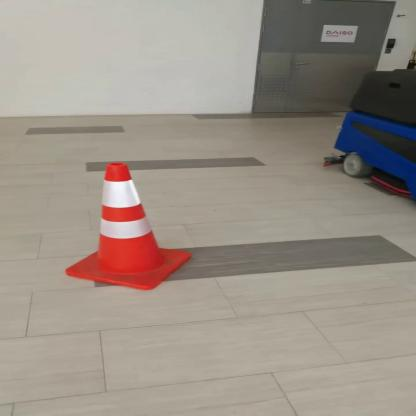cone: (54, 159, 195, 293)
